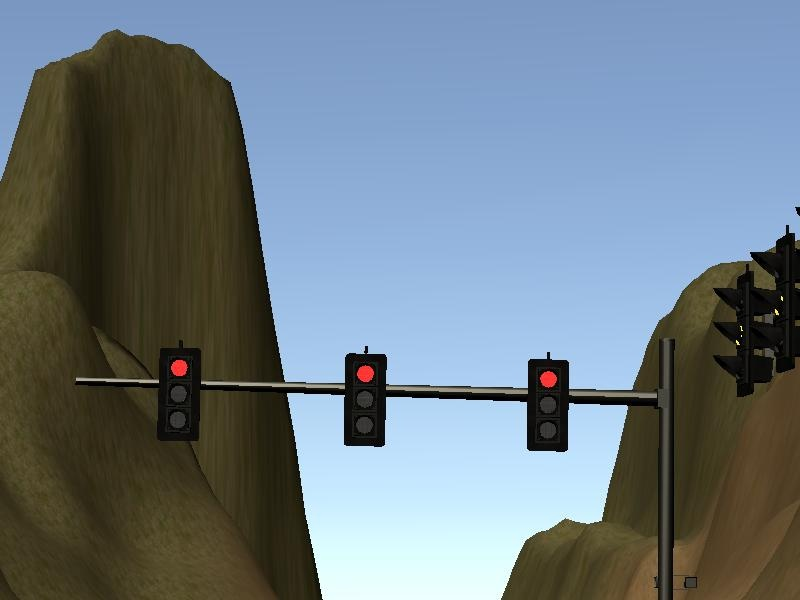traffic_light_red: (148, 340, 657, 454)
